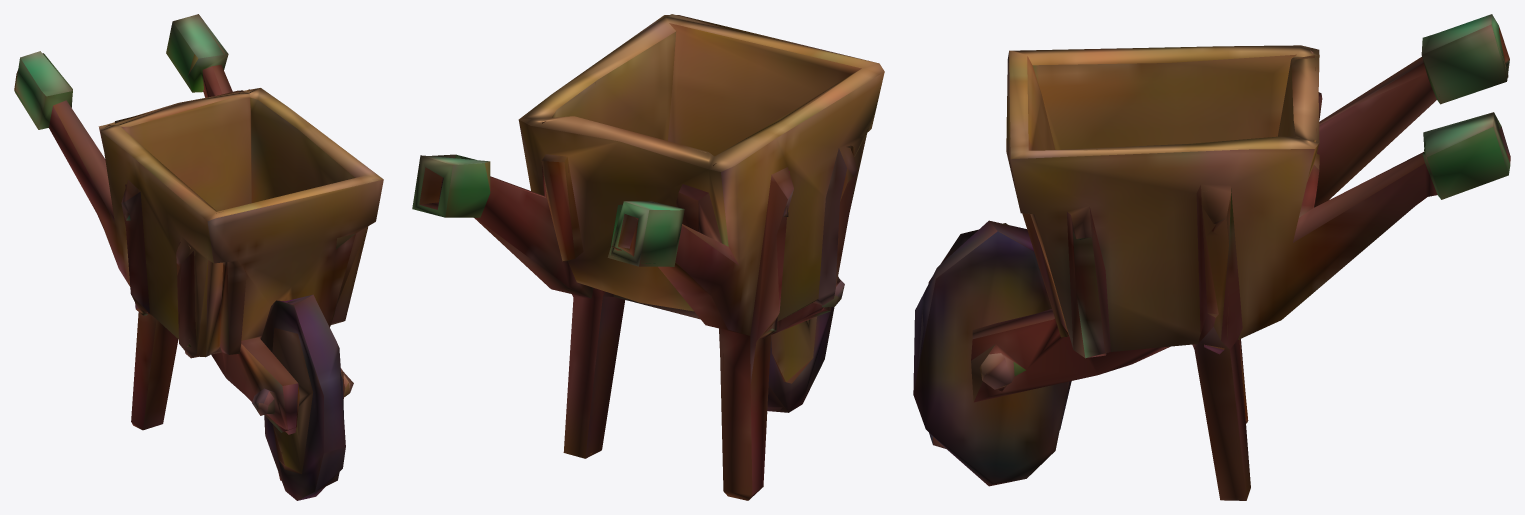
Rendered from wheelbarrow.glb.
3 views of the same model, side by side, from view 1: azimuth 30°, elevation 25°; view 2: azimuth 150°, elevation 25°; view 3: azimuth 270°, elevation 25° (orthographic). The views are drawn at different scales.
Size of the model in its own units: 0.4622 by 0.7595 by 0.9972.
Materials: 1 (1 with a texture image).
